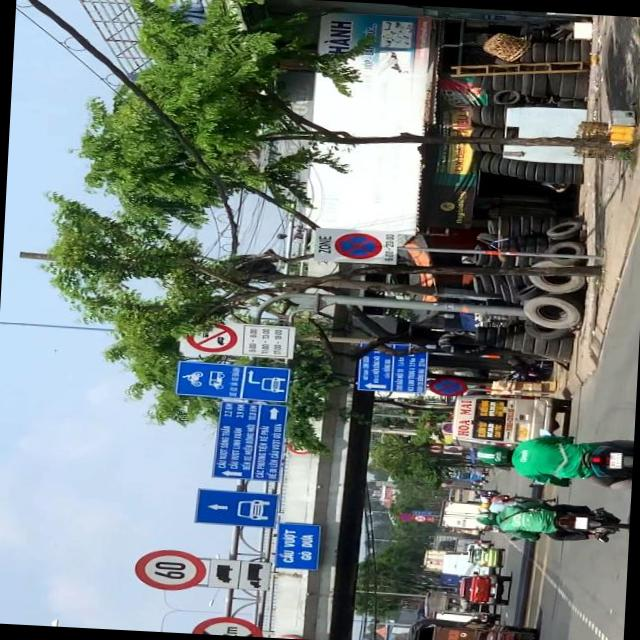P-130: (334, 231, 382, 259)
